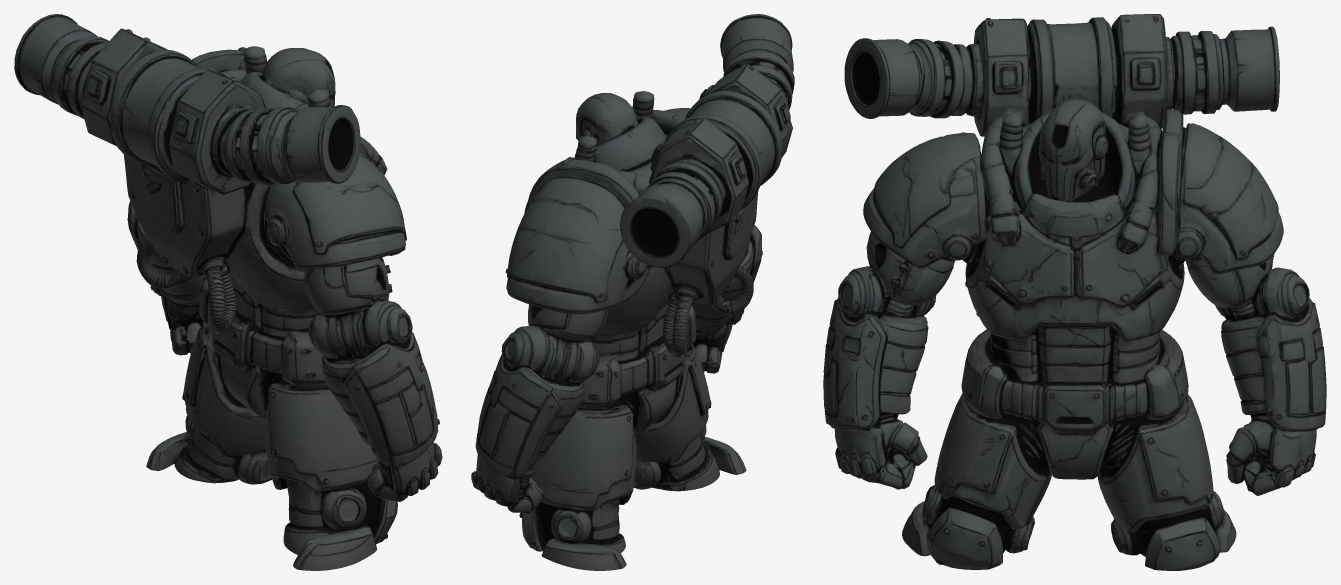
File: dreadnought.glb
3 views of the same model, side by side, from view 1: azimuth 30°, elevation 25°; view 2: azimuth 150°, elevation 25°; view 3: azimuth 270°, elevation 25° (orthographic). The views are drawn at different scales.
Visible parts, largest first — view 1: tripo_node_c8808750-c878-4c2a-b0fb-af1f46a06e0e; view 2: tripo_node_c8808750-c878-4c2a-b0fb-af1f46a06e0e; view 3: tripo_node_c8808750-c878-4c2a-b0fb-af1f46a06e0e.
Part boxes in pixels (x1,y1,x2,y2): tripo_node_c8808750-c878-4c2a-b0fb-af1f46a06e0e: (14, 14, 442, 570); tripo_node_c8808750-c878-4c2a-b0fb-af1f46a06e0e: (471, 14, 794, 570); tripo_node_c8808750-c878-4c2a-b0fb-af1f46a06e0e: (823, 14, 1326, 570).
Size of the model in its own units: 0.5518 by 1 by 0.9453.
1 material, 1 textured.
